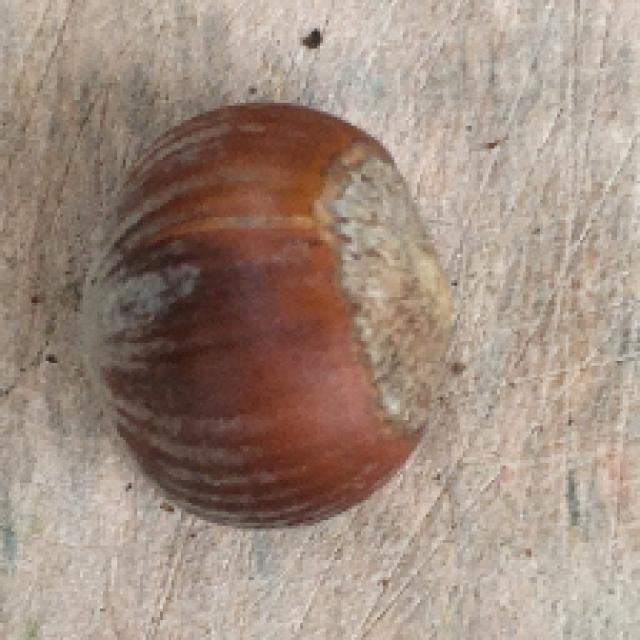damagedHazelnut: (72, 101, 449, 535)
